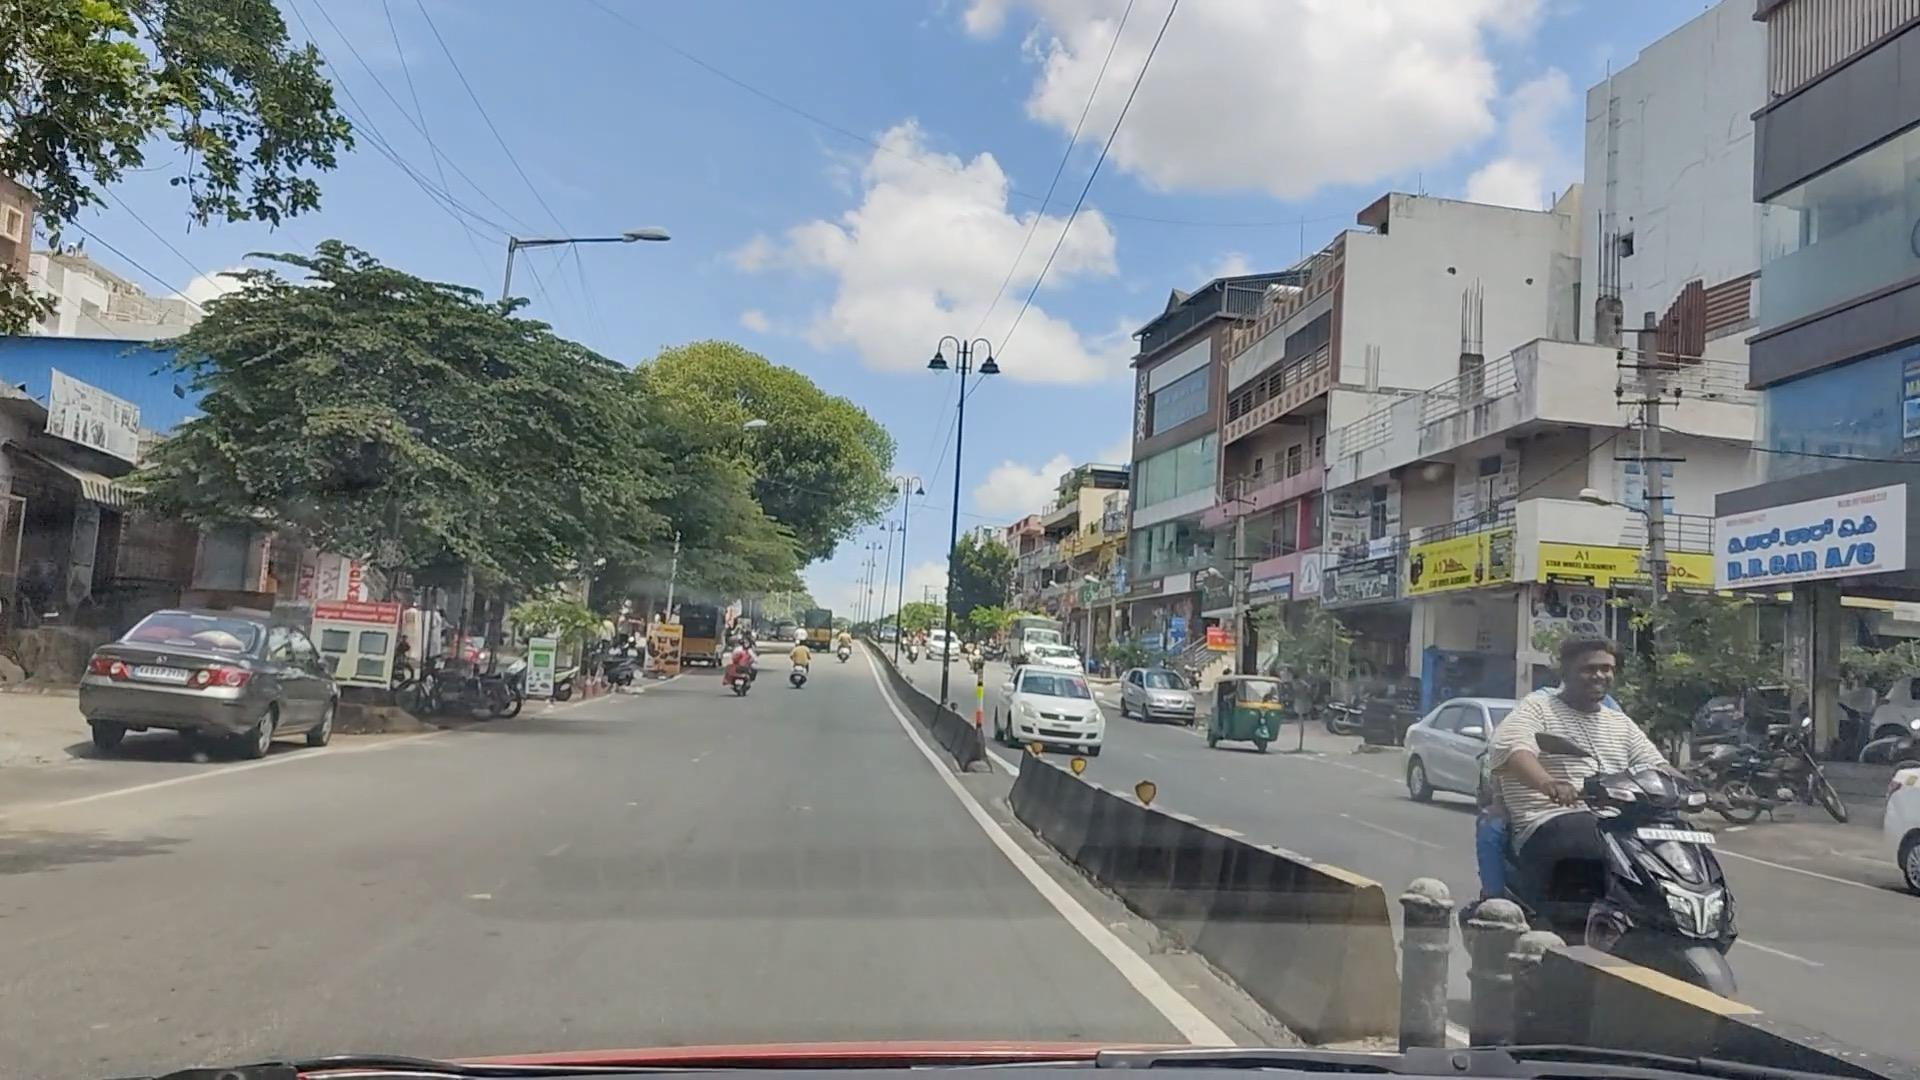LMV: (1507, 640, 1698, 955), (83, 620, 278, 737), (1000, 650, 1101, 758)
